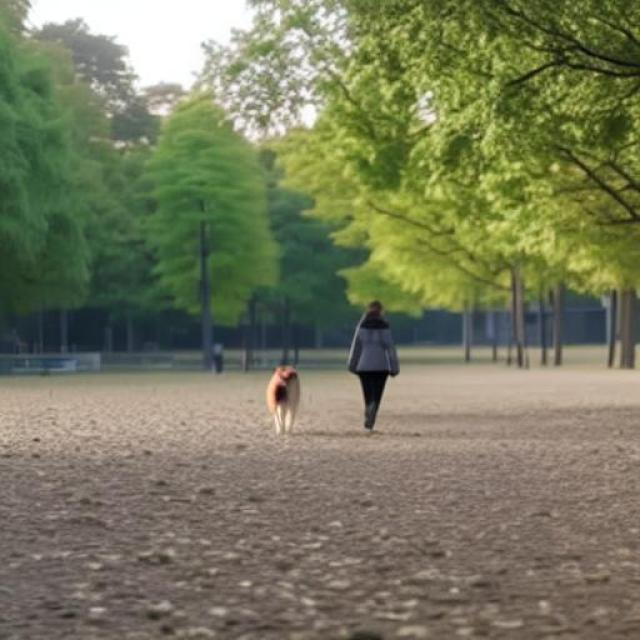Unleashed_Dog: (266, 363, 388, 437)
